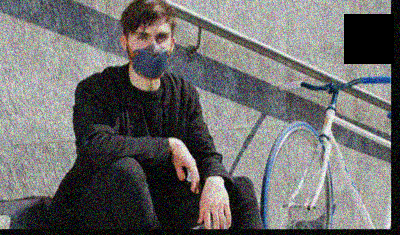with_mask: (128, 29, 172, 79)
